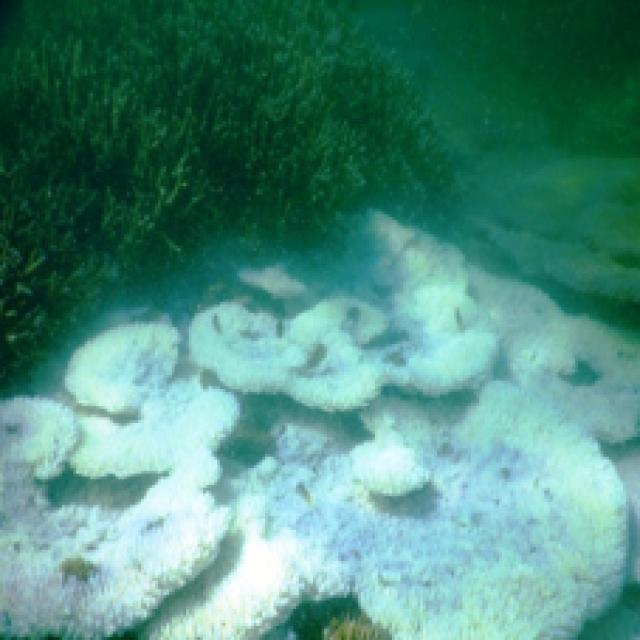Bleached: (272, 382, 627, 638), (1, 458, 232, 638), (145, 458, 320, 638), (71, 390, 235, 477), (390, 283, 497, 393), (283, 297, 382, 410), (190, 300, 308, 393), (66, 320, 179, 410), (362, 210, 469, 300), (145, 376, 238, 463), (1, 399, 77, 477)
Healthy: (1, 1, 449, 379)
